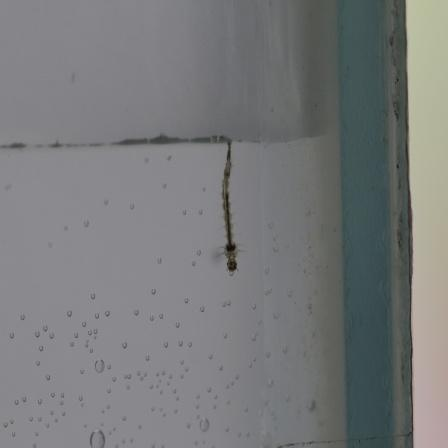Jentik-Nyamuk: (218, 143, 248, 278)
